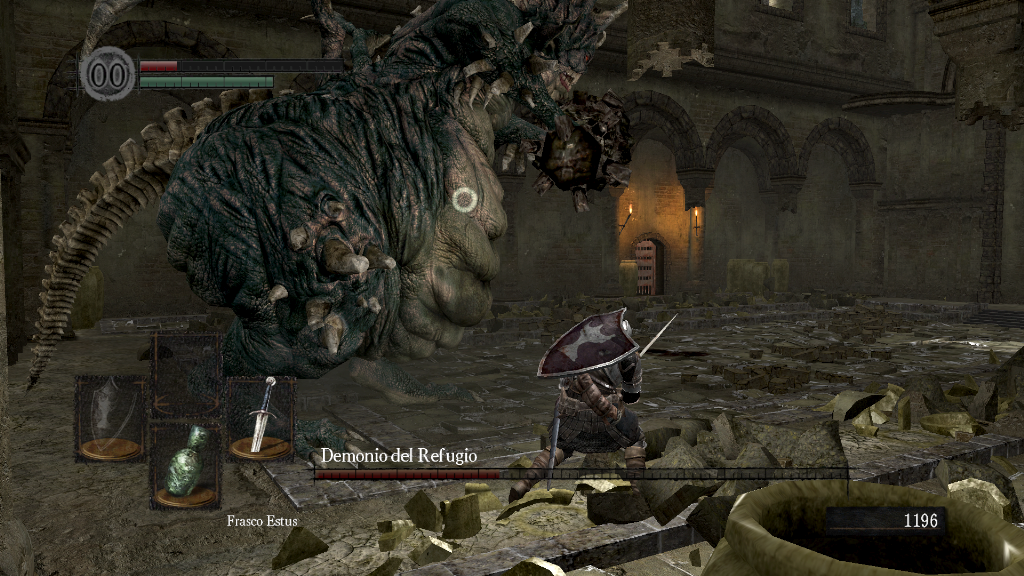asylumDemon: (22, 1, 644, 471)
bossHP: (314, 469, 847, 479)
health: (138, 58, 343, 71)
humanity: (80, 45, 136, 102)
player: (508, 303, 682, 501)
souls: (825, 506, 945, 536)
stamina: (138, 74, 274, 88)
